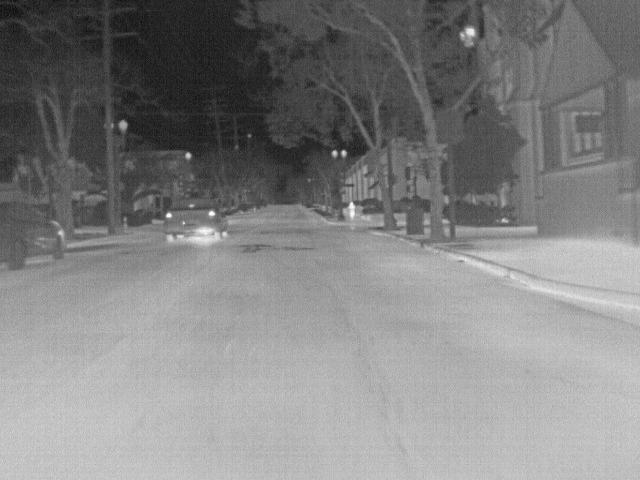car: (0, 200, 69, 271), (164, 197, 230, 244), (241, 200, 256, 214)
person: (347, 200, 357, 219)
